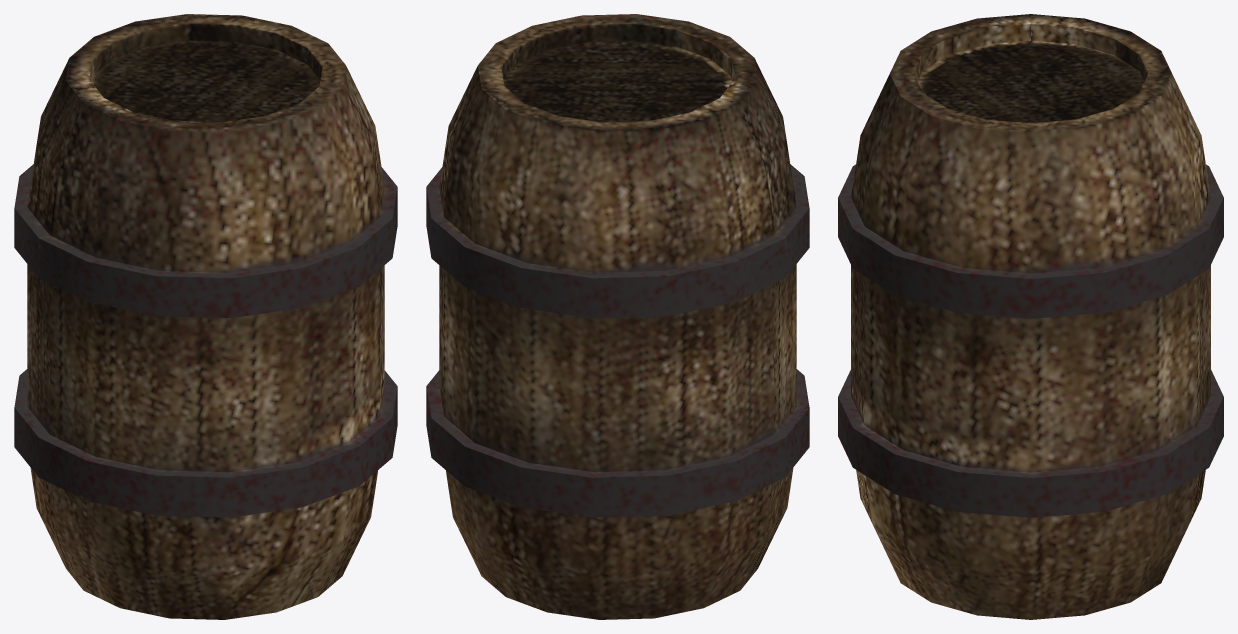
The model's file is Barrel.fbx.
The picture shows the model from 3 angles, left to right: view 1: azimuth 30°, elevation 25°; view 2: azimuth 150°, elevation 25°; view 3: azimuth 270°, elevation 25°; orthographic projection.
Parts seen in each view (by area): view 1: Barrel; view 2: Barrel; view 3: Barrel.
Part boxes in pixels (x1,y1,x2,y2): Barrel: [14, 14, 397, 619]; Barrel: [426, 14, 809, 619]; Barrel: [838, 14, 1223, 619].
Bounding box in the file's own units: 0.8117 × 1.13 × 0.8117.
